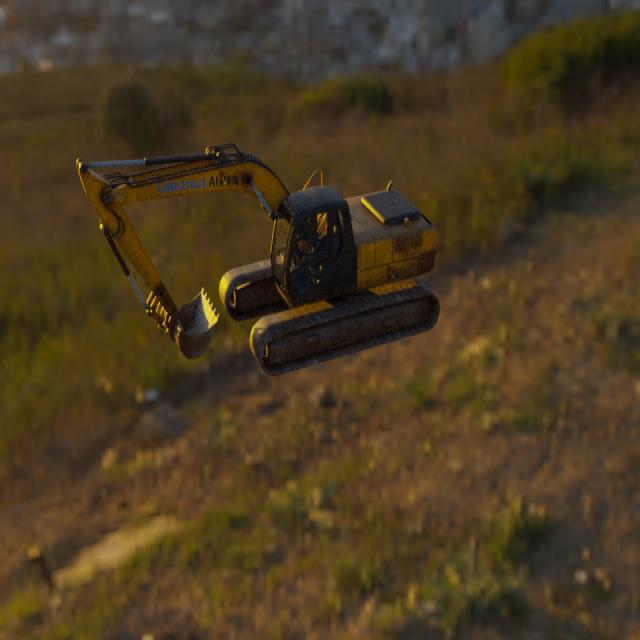excavator: (76, 141, 440, 376)
